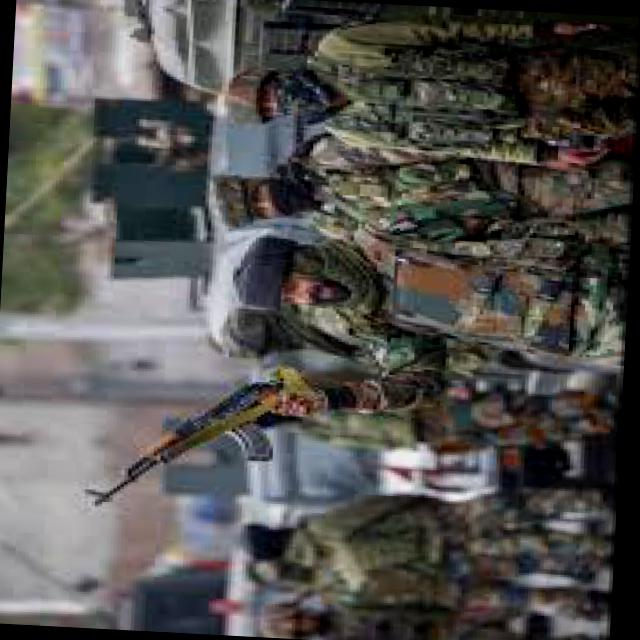long weapon: (74, 346, 333, 529)
